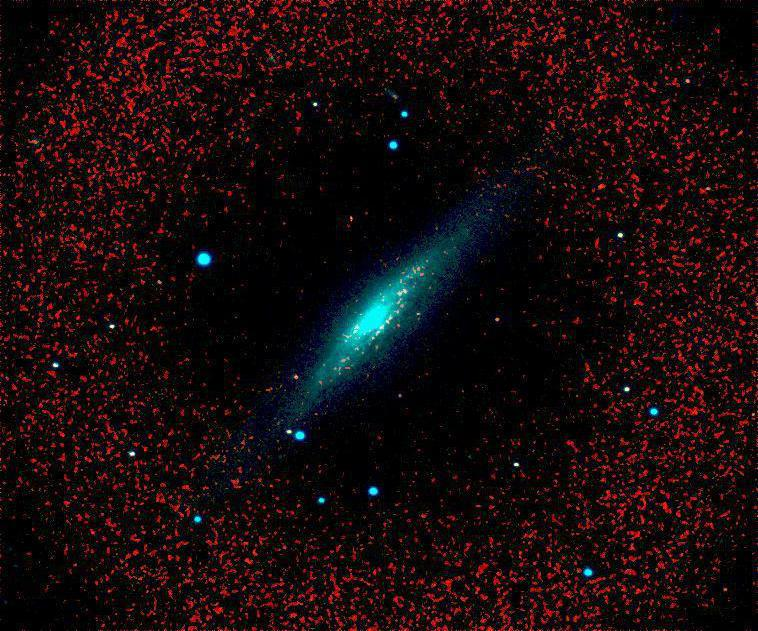star: (588, 172, 618, 202)
